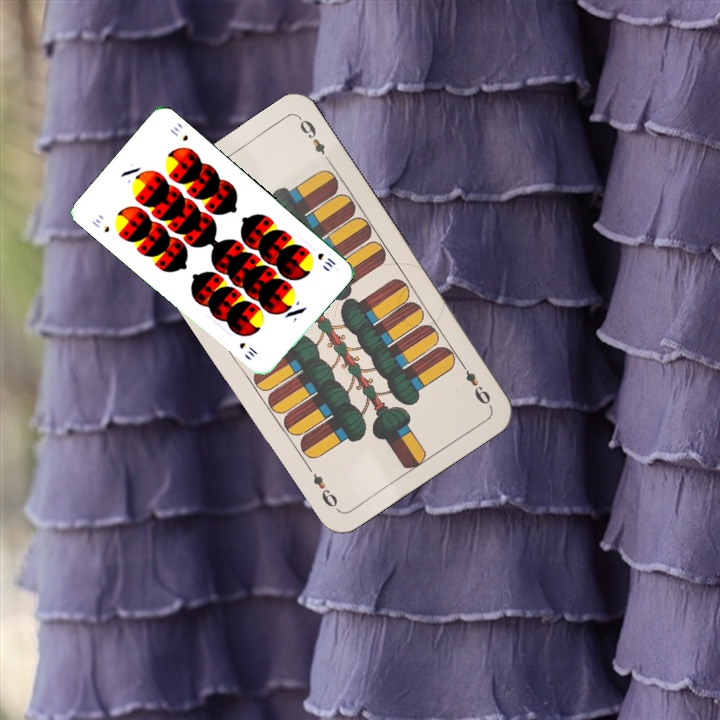E9: (455, 356, 494, 409)
S10: (313, 249, 338, 271), (88, 214, 112, 235)
